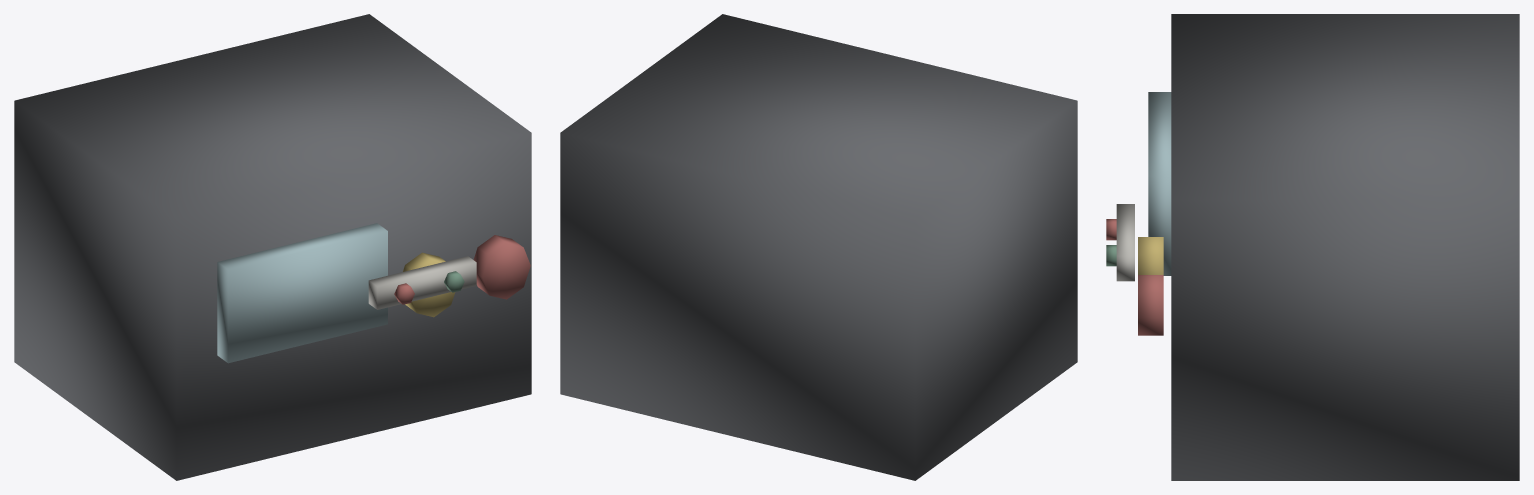
File: component_tester__compact.glb
3 renders of one model, left to right at view 1: azimuth 30°, elevation 25°; view 2: azimuth 150°, elevation 25°; view 3: azimuth 270°, elevation 25°, orthographic. The views are drawn at different scales.
Parts seen in each view (by area): view 1: world; view 2: world; view 3: world.
Boxes of the visible parts, bbox=[...] form: world: bbox=[14, 14, 531, 480]; world: bbox=[560, 14, 1077, 480]; world: bbox=[1106, 14, 1519, 480].
Bounding box in the file's own units: 0.3696 × 0.2604 × 0.347.
